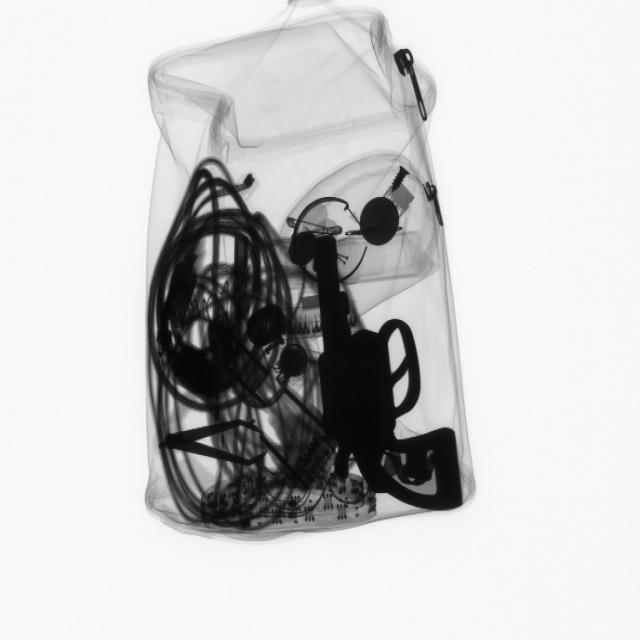GUN: (310, 238, 448, 523)
